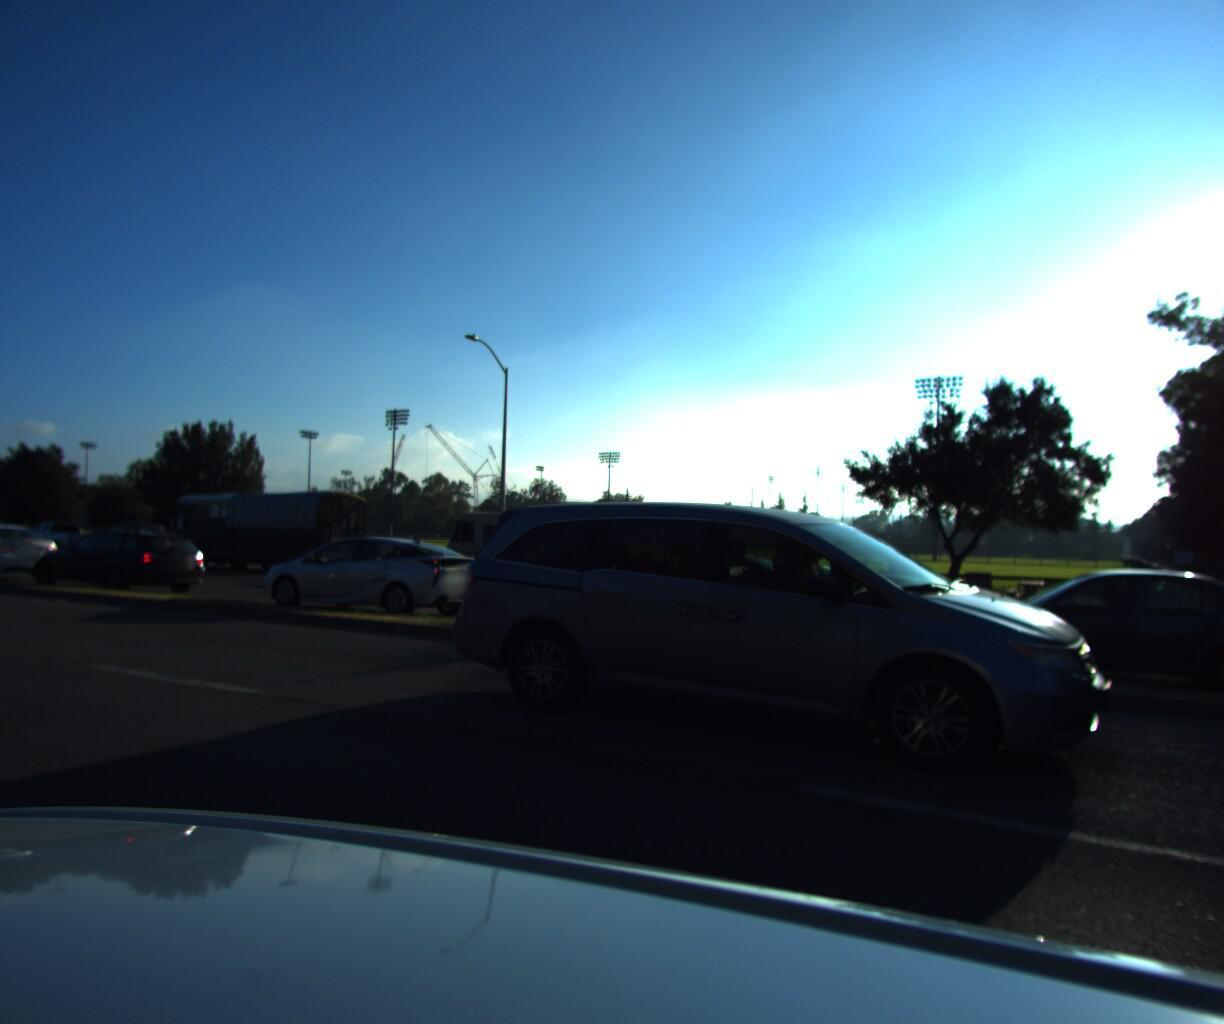bus: (159, 482, 374, 577)
car: (437, 494, 1095, 798), (920, 557, 1224, 699), (242, 528, 493, 620), (15, 520, 215, 594), (74, 514, 173, 563), (4, 514, 105, 558), (0, 516, 63, 578)
other_vehicle: (432, 494, 638, 596)
